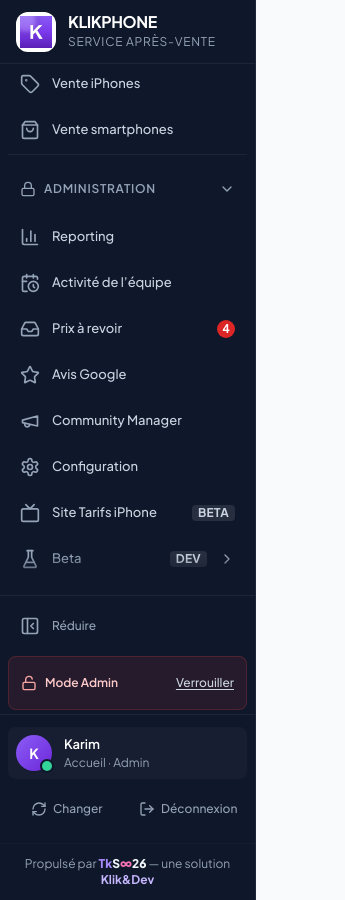
Scenario: Navbar : « Prix à revoir » et propositions en attente › admin : badge du nombre de propositions, lien vers l’onglet propositions
(page scrolled)
Click the button with aria-label "Prix à revoir : 4 propositions de prix en attente".
click(128, 329)  # box [8,307,247,351]
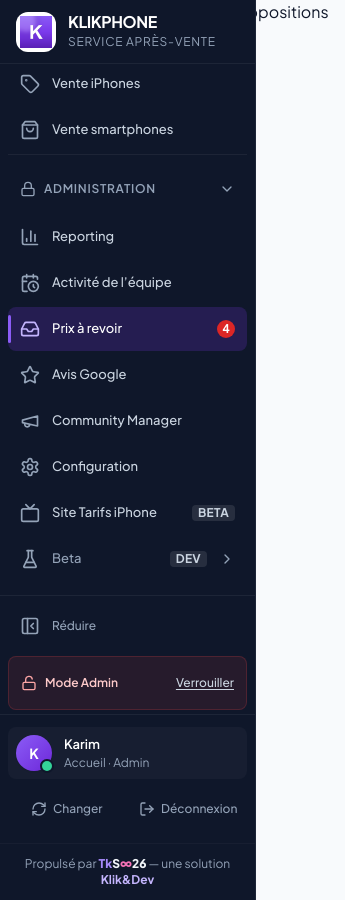
Check: the text with test id "adresse" reads "/accueil/prix-a-revoir?onglet=propositions", box [0,1,329,22]
